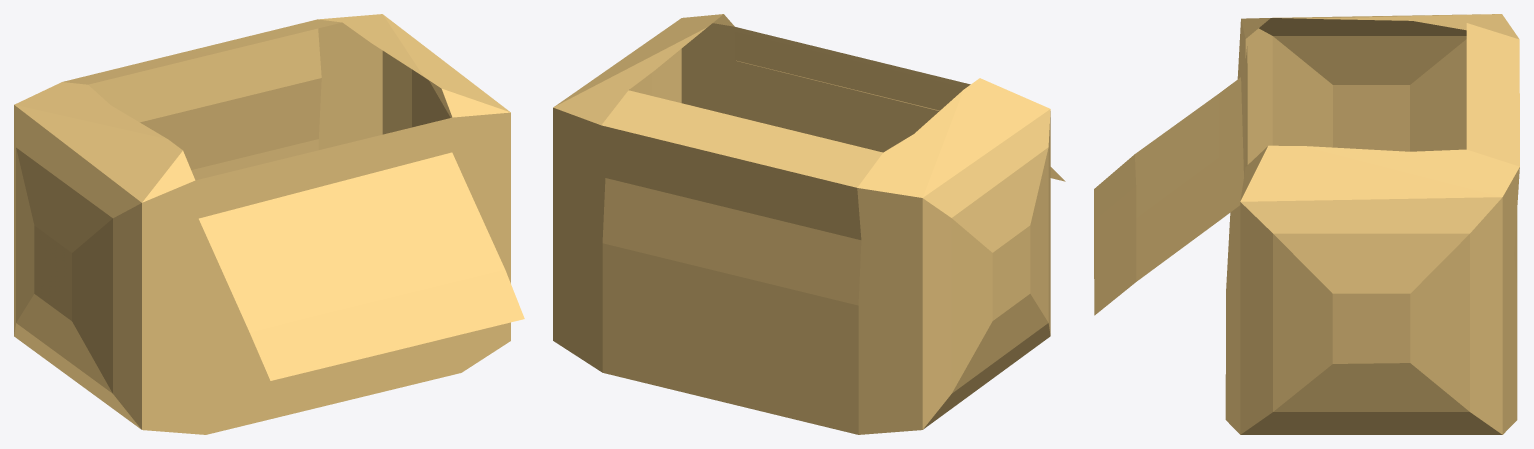
The model's file is chest01.glb.
3 renders of one model, left to right at view 1: azimuth 30°, elevation 25°; view 2: azimuth 150°, elevation 25°; view 3: azimuth 270°, elevation 25°, orthographic. The views are drawn at different scales.
Visible parts, largest first — view 1: Cube, Cube.001; view 2: Cube, Cube.001; view 3: Cube, Cube.001.
Boxes of the visible parts, <box> form: Cube: <box>14,14,510,434</box>; Cube.001: <box>199,152,524,380</box>; Cube: <box>553,14,1050,434</box>; Cube.001: <box>734,32,1065,181</box>; Cube: <box>1225,14,1519,434</box>; Cube.001: <box>1094,46,1247,315</box>.
Bounding box in the file's own units: 2.5 × 1.53 × 2.16.
